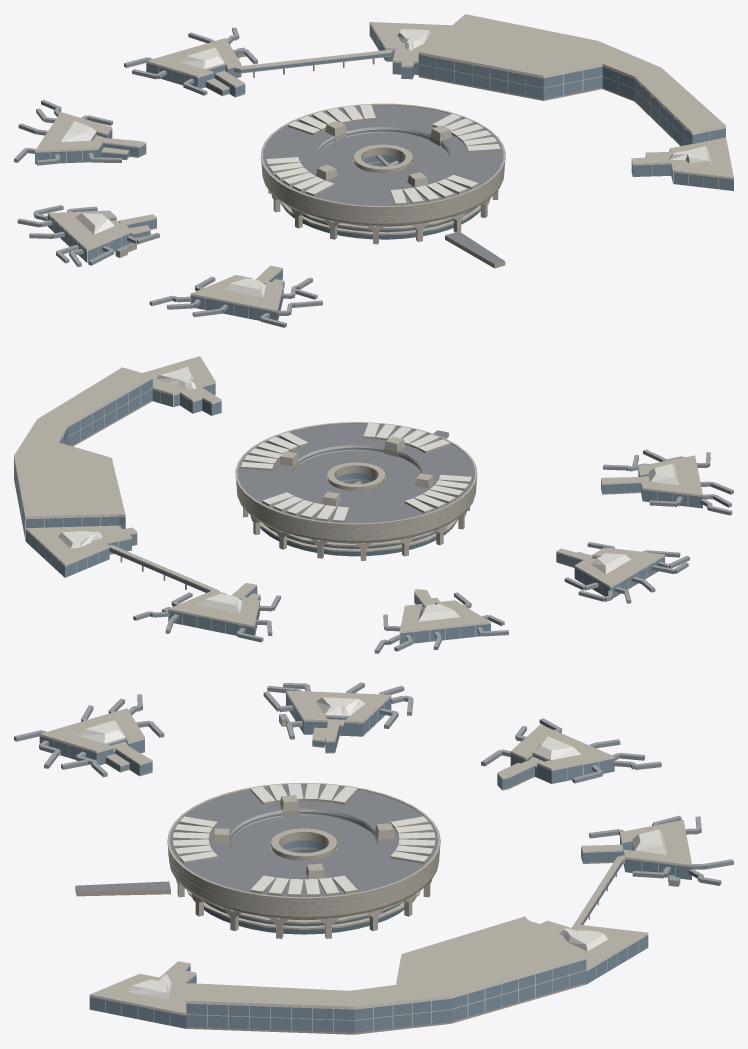
The model's file is paris-cdg-terminal-1.glb.
The picture shows the model from 3 angles, top to bottom: view 1: azimuth 30°, elevation 25°; view 2: azimuth 150°, elevation 25°; view 3: azimuth 270°, elevation 25°; orthographic projection. The views are drawn at different scales.
Parts seen in each view (by area): view 1: Paris-CDG Terminal 1; view 2: Paris-CDG Terminal 1; view 3: Paris-CDG Terminal 1.
Part boxes in pixels (box(x1,y1,x2,y2)): Paris-CDG Terminal 1: box(14, 14, 733, 327); Paris-CDG Terminal 1: box(14, 356, 733, 653); Paris-CDG Terminal 1: box(14, 682, 733, 1034).
Bounding box in the file's own units: 562 × 40.3 × 500.
